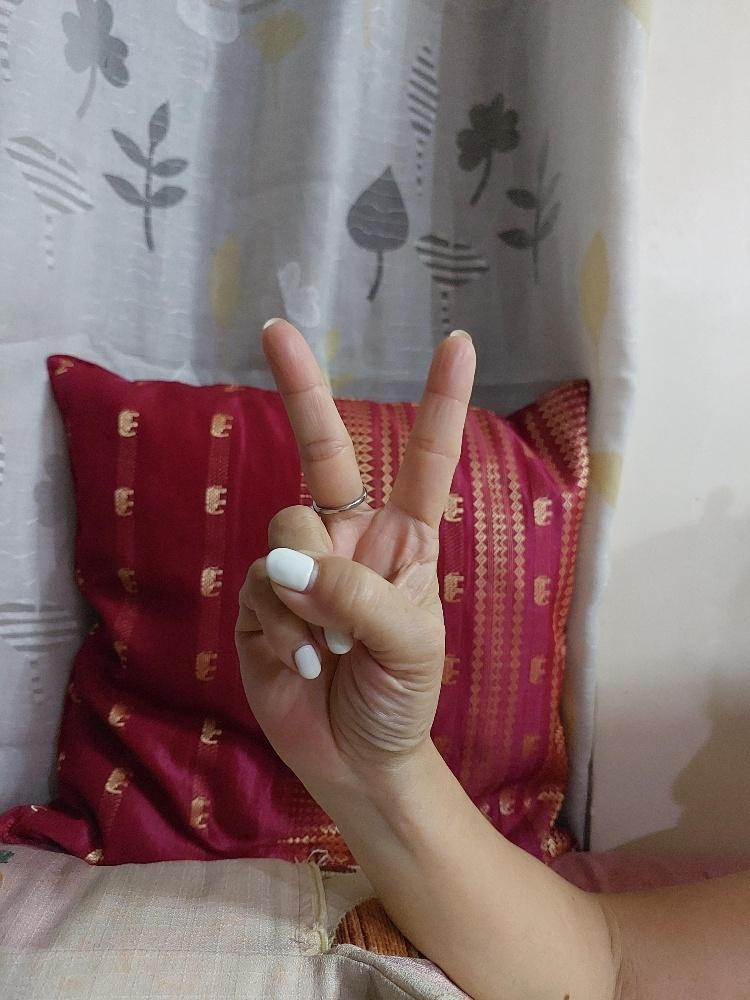v: (230, 313, 480, 779)
